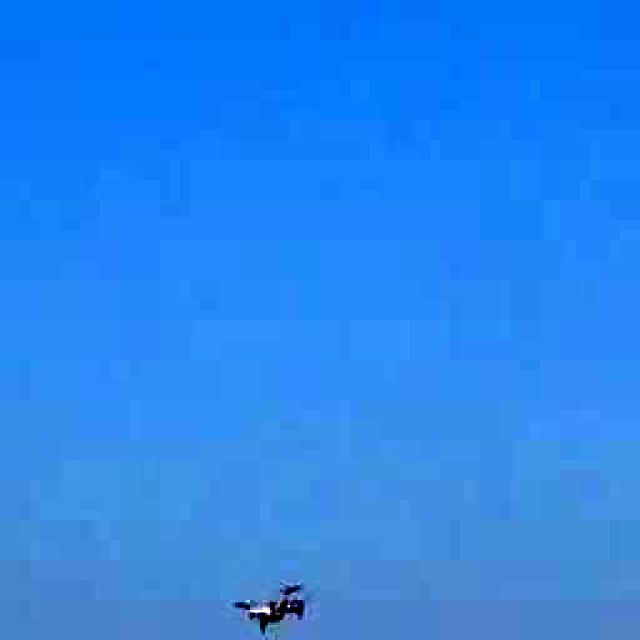bird: (218, 565, 328, 640)
